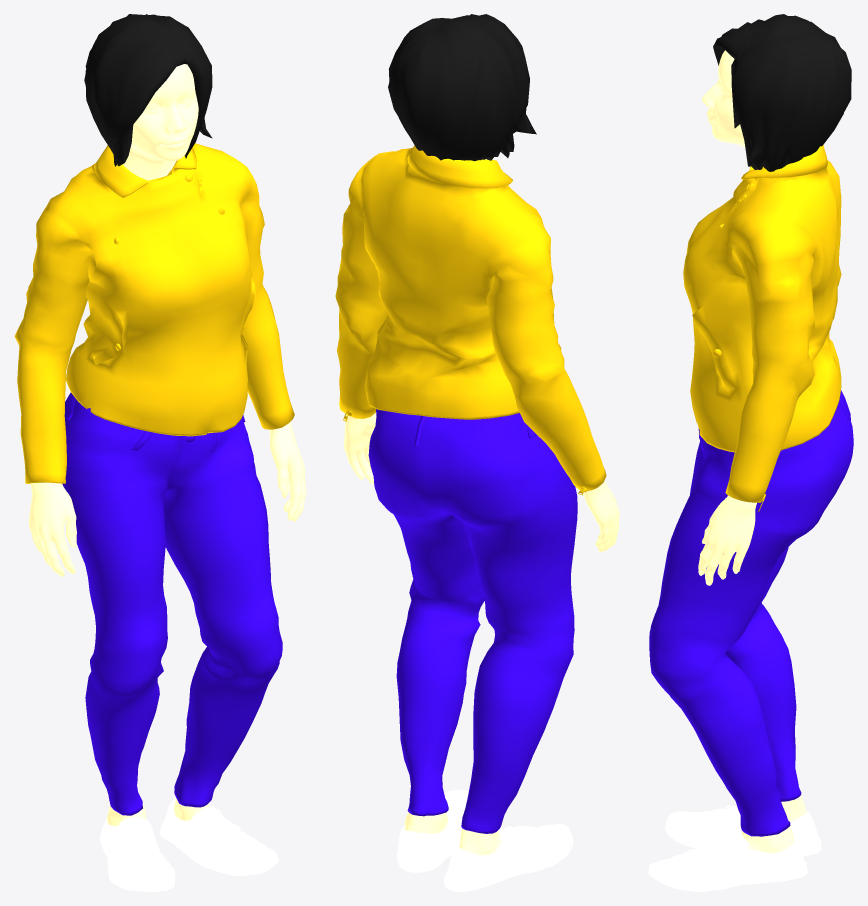
The model's file is Woman_06_Standing-transformed.glb.
3 views of the same model, side by side, from view 1: azimuth 30°, elevation 25°; view 2: azimuth 150°, elevation 25°; view 3: azimuth 270°, elevation 25° (orthographic). The views are drawn at different scales.
Visible parts, largest first — view 1: Tops.001, Bottoms.001, Body.001, Hair.001, Shoes.001; view 2: Bottoms.001, Tops.001, Hair.001, Shoes.001, Body.001; view 3: Tops.001, Bottoms.001, Hair.001, Shoes.001, Body.001.
Part boxes in pixels (x1,y1,x2,y2): Tops.001: (14,143,294,483); Bottoms.001: (62,392,282,815); Body.001: (28,64,306,826); Hair.001: (84,14,212,166); Shoes.001: (100,797,278,891); Bottoms.001: (368,409,577,833); Tops.001: (335,145,606,495); Hair.001: (388,14,536,161); Shoes.001: (397,789,573,891); Body.001: (344,159,619,855); Tops.001: (683,145,841,511); Bottoms.001: (649,390,853,836); Hair.001: (713,14,851,171); Shoes.001: (648,805,821,891); Body.001: (698,50,806,852).
Bounding box in the file's own units: 0.5413 × 1.64 × 0.3641.
